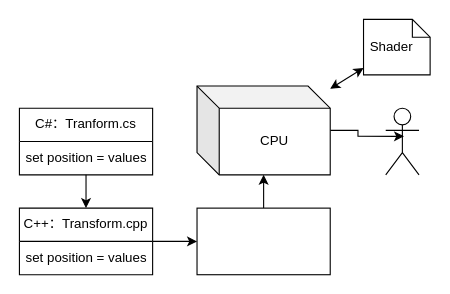
The diagram is 450 pixels wide and 294 high, and some of its shapes have lost their labels. The shapes that lost their labels are listed below. From the top down, each one's centre as x and y in pixels, then its label:
At point 402,141: "角色移动".
At point 263,241: "C++ Graphic".
